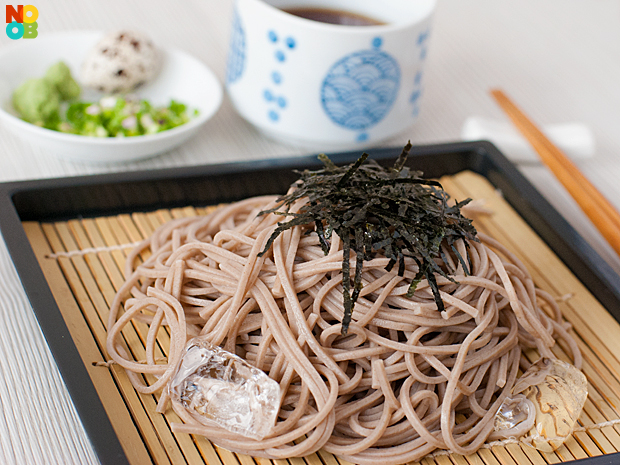Soba: (135, 167, 583, 464)
